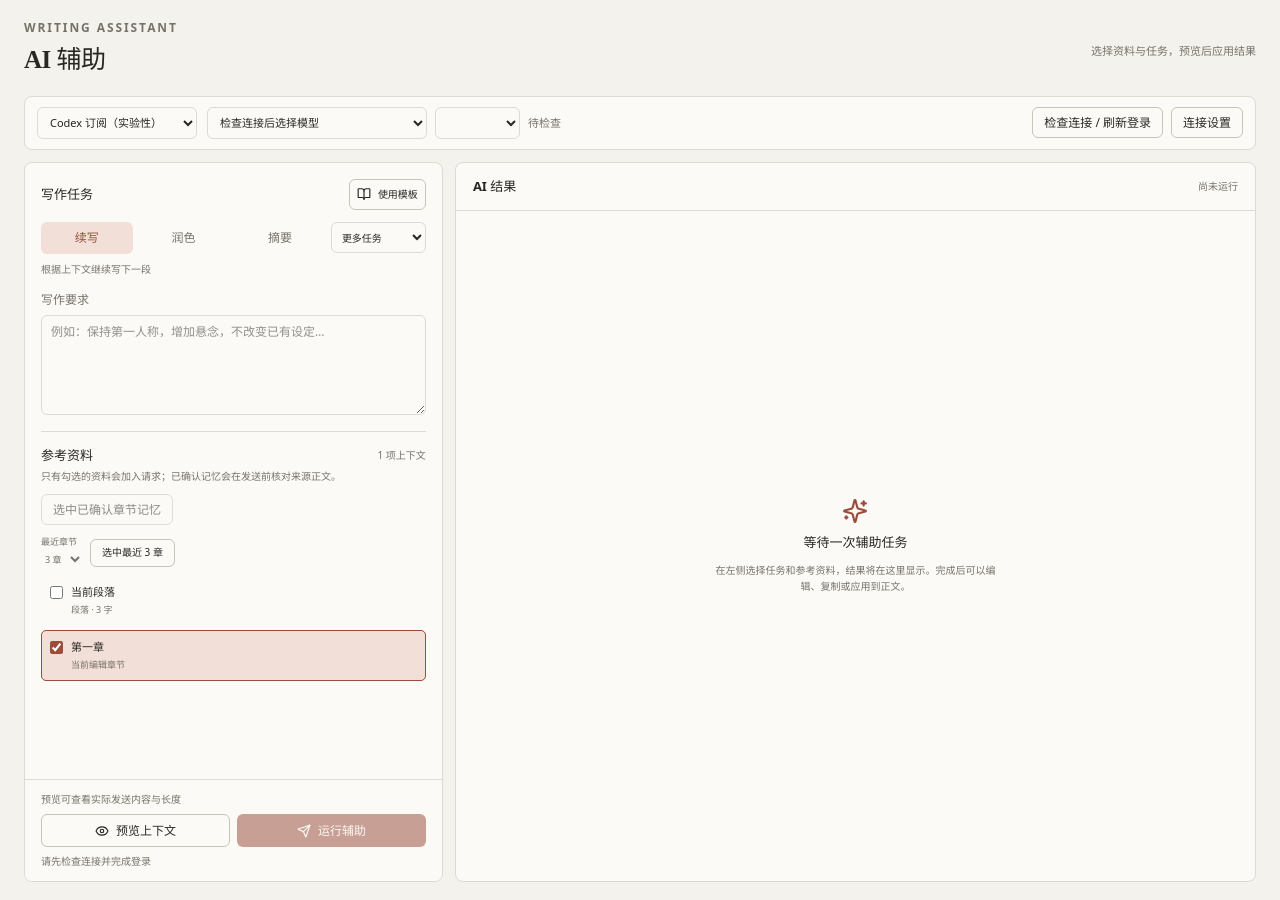
it: marks a failed generation connection unavailable until checked again
Click the button "检查连接 / 刷新登录". click: x=1098, y=123
box: [1032,107,1163,138]
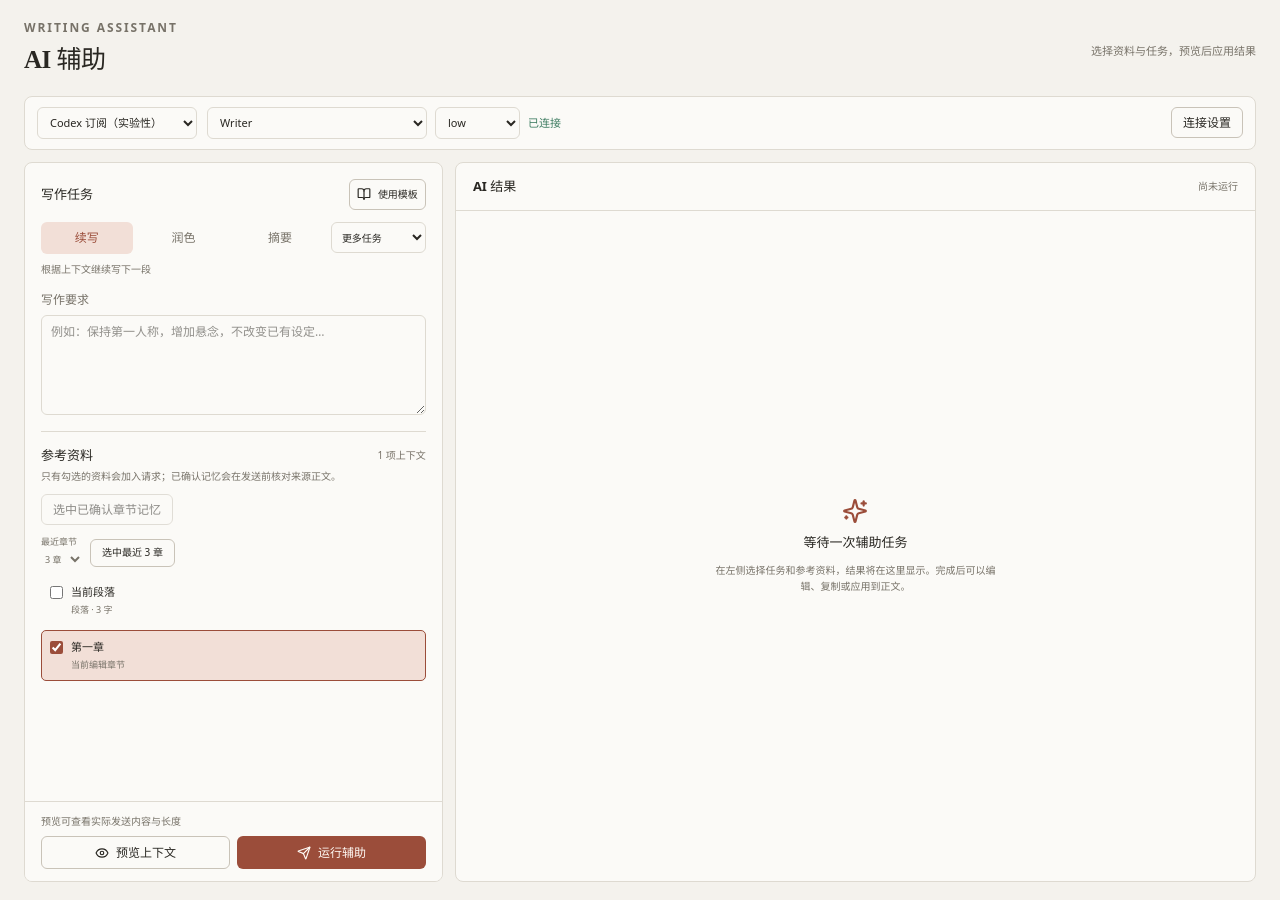
Expected: the button "运行辅助" is enabled
Click the button "运行辅助". click: x=331, y=852
box: [237,836,426,869]
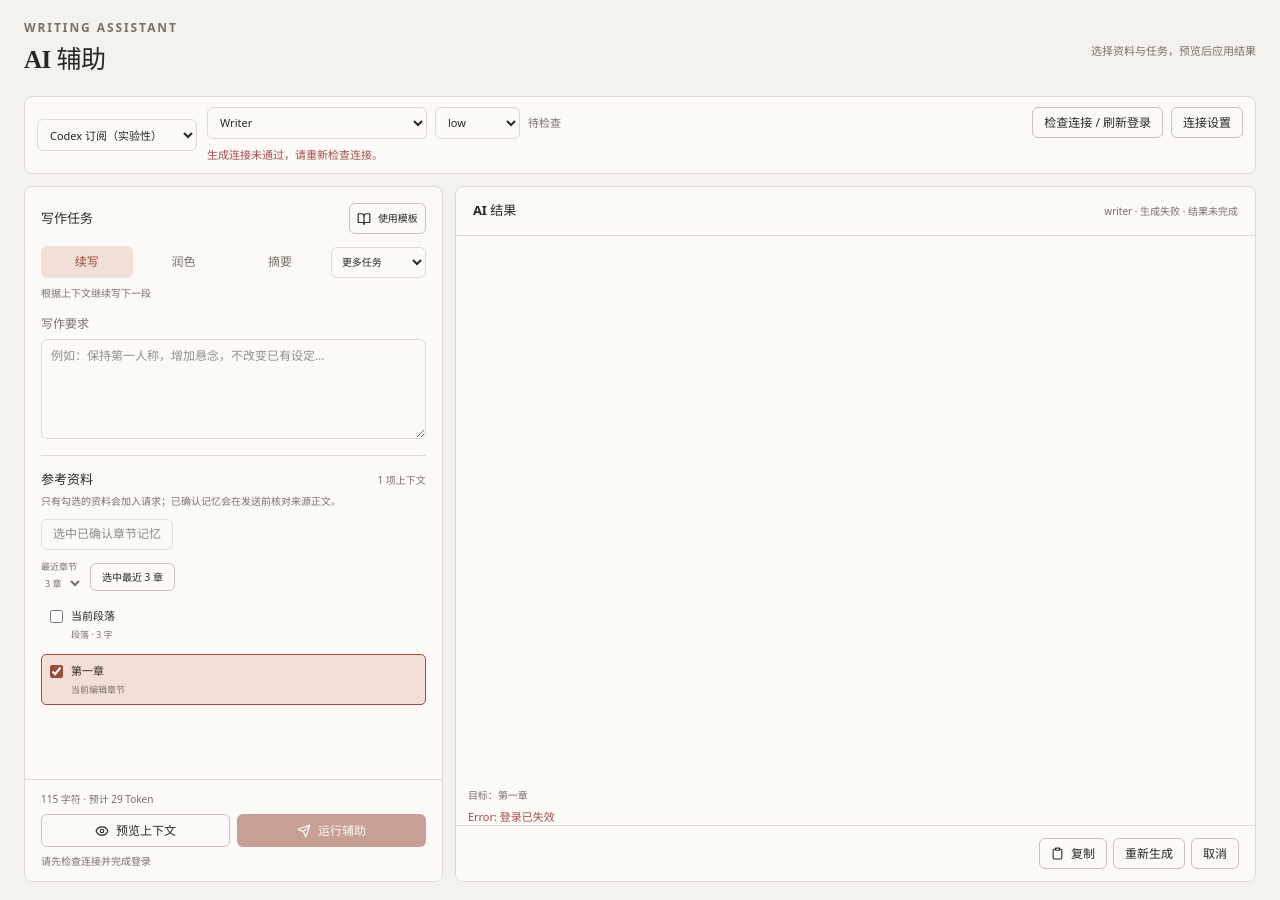
Expected: the button "运行辅助" is disabled, [237,814,426,847]
Expected: the text "生成连接未通过，请重新检查连接。" is shown, [207,147,383,162]
